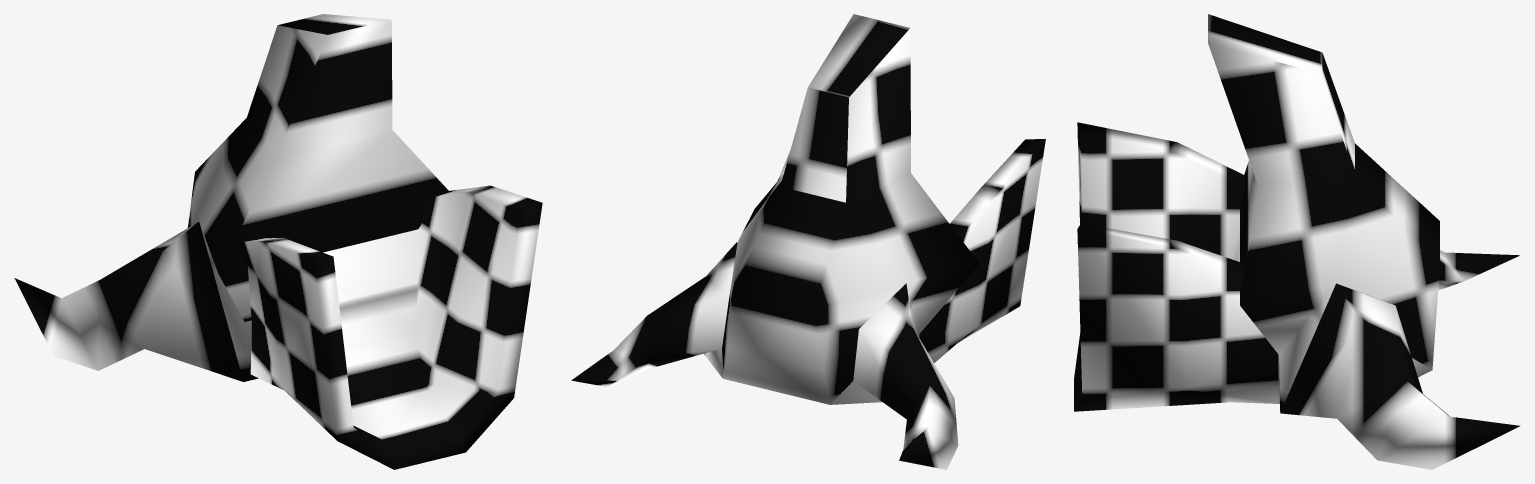
The model's file is initarhl16.dae.
3 views of the same model, side by side, from view 1: azimuth 30°, elevation 25°; view 2: azimuth 150°, elevation 25°; view 3: azimuth 270°, elevation 25° (orthographic). The views are drawn at different scales.
Parts seen in each view (by area): view 1: armor; view 2: armor; view 3: armor.
Boxes of the visible parts, box(x1,y1,x2,y2) form: armor: box(14, 14, 542, 469); armor: box(571, 14, 1045, 469); armor: box(1074, 14, 1519, 469).
Size of the model in its own units: 1.3 by 1.38 by 1.25.
Materials: 1 (1 with a texture image).
